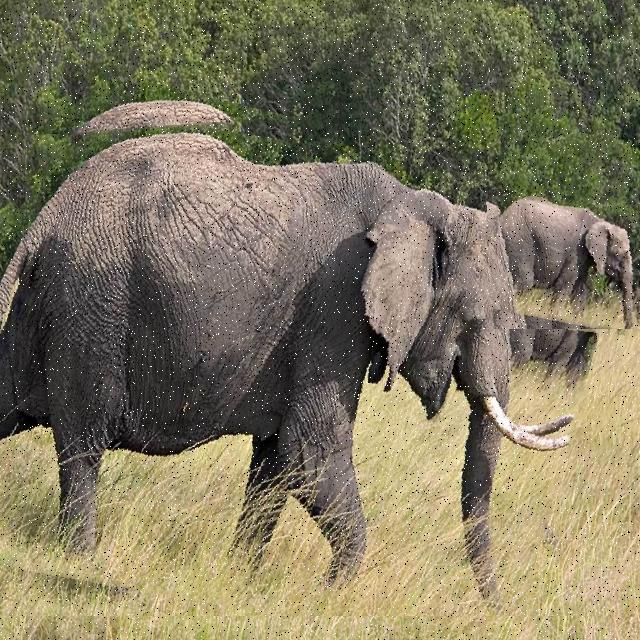elephant: (0, 92, 619, 616), (486, 196, 640, 329)
